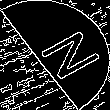N_SW: (17, 24, 93, 86)
